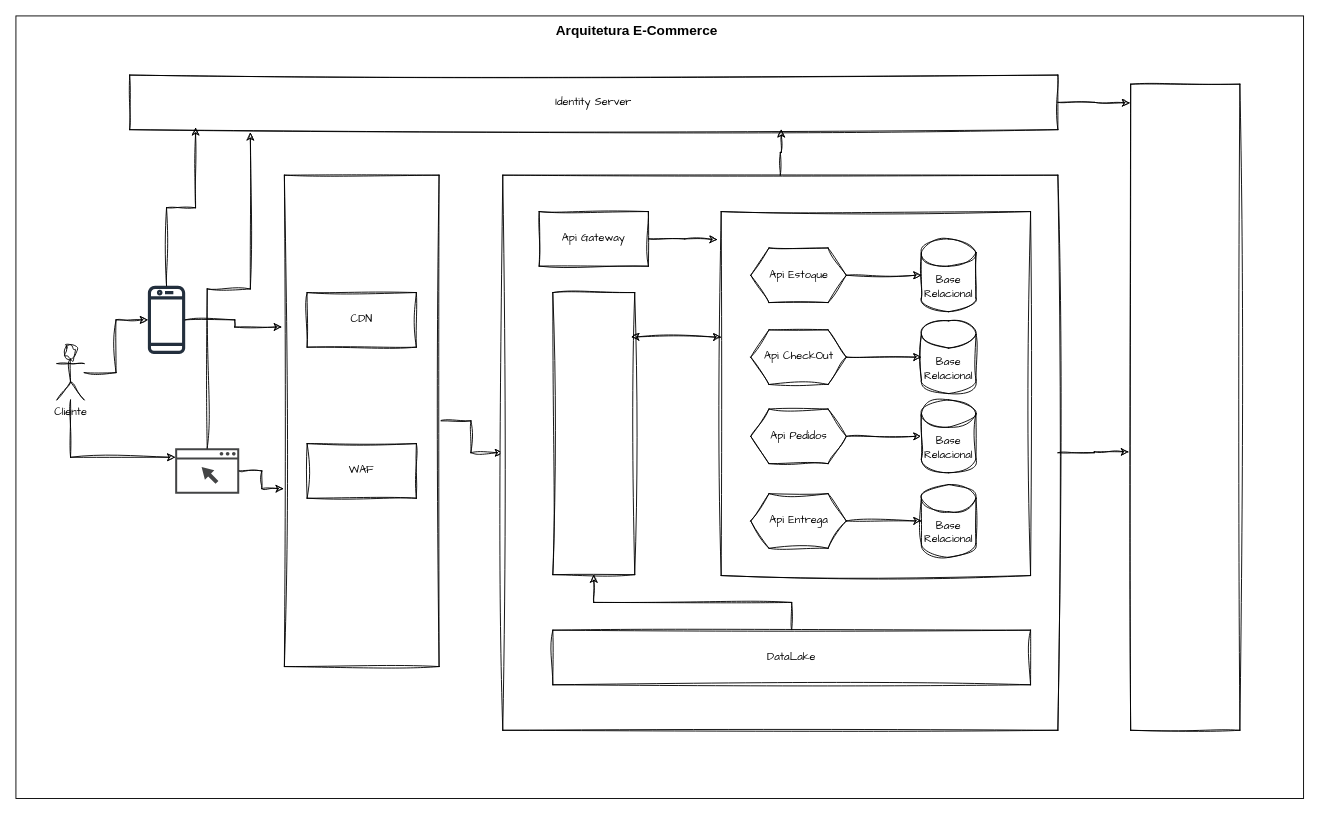
Some shapes in this 1320 by 814 pixel diagram are drawn without their labels. The shapes that lost their labels are listed below. From the top down, each one's box as (x1, y1, x2, y2) in pixels, then its label:
(147, 284, 185, 355): Celular
(720, 211, 1031, 576): APIs
(1130, 83, 1240, 730): Observabilidade
(283, 174, 439, 667): Edge
(552, 292, 635, 575): Barramento de Eventos
(175, 448, 239, 493): Browser
